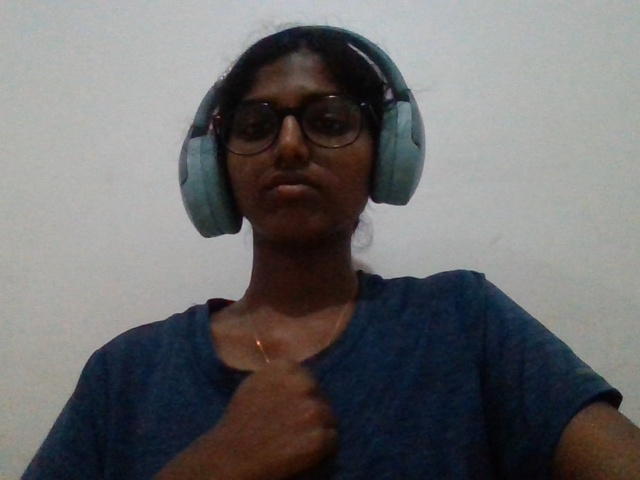Sorry: (183, 335, 345, 480)
